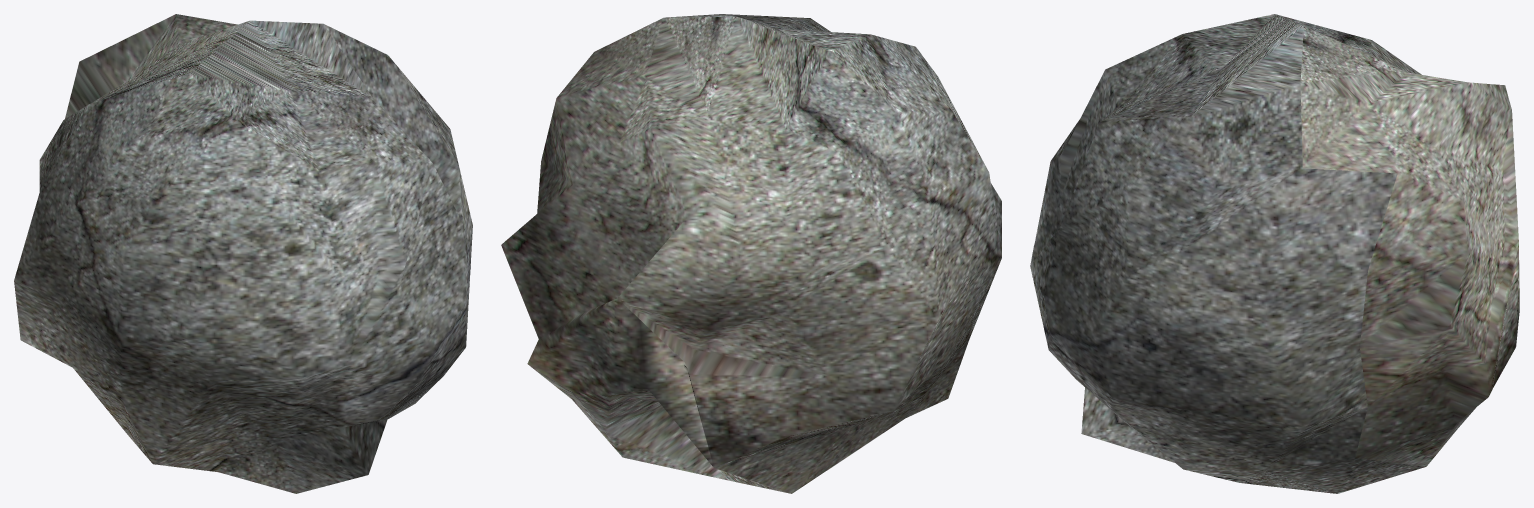
Rendered from Boulder.FBX.
3 renders of one model, left to right at view 1: azimuth 30°, elevation 25°; view 2: azimuth 150°, elevation 25°; view 3: azimuth 270°, elevation 25°, orthographic. The views are drawn at different scales.
Parts seen in each view (by area): view 1: Sphere001; view 2: Sphere001; view 3: Sphere001.
Part boxes in pixels (x1,y1,x2,y2): Sphere001: (14,14,472,493); Sphere001: (501,14,1001,493); Sphere001: (1030,14,1519,493).
Bounding box in the file's own units: 411 × 410 × 416.
1 material, 1 textured.
